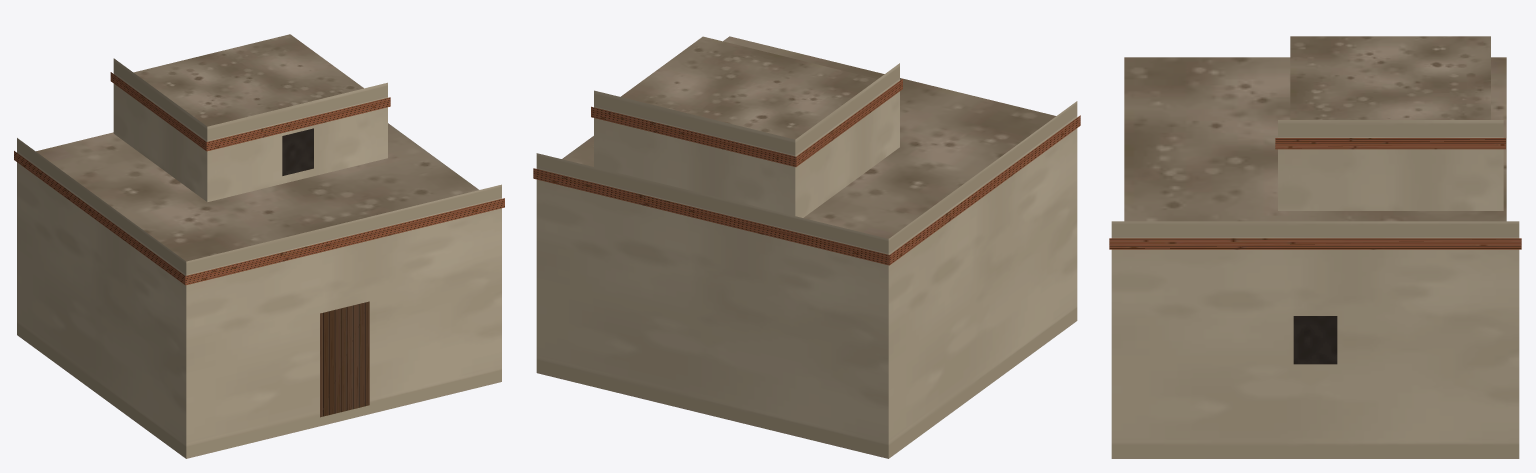
Rendered from ae_sand_stone_large_terrace_lod2.glb.
The picture shows the model from 3 angles, left to right: view 1: azimuth 30°, elevation 25°; view 2: azimuth 150°, elevation 25°; view 3: azimuth 270°, elevation 25°; orthographic projection. The views are drawn at different scales.
Visible parts, largest first — view 1: ae_sand_stone_large_terrace_lod2; view 2: ae_sand_stone_large_terrace_lod2; view 3: ae_sand_stone_large_terrace_lod2.
Part boxes in pixels (x1,y1,x2,y2): ae_sand_stone_large_terrace_lod2: (14,34,504,458); ae_sand_stone_large_terrace_lod2: (533,36,1080,458); ae_sand_stone_large_terrace_lod2: (1109,36,1521,458).
Bounding box in the file's own units: 7.08 × 5.5 × 6.58.
1 material, 1 textured.
